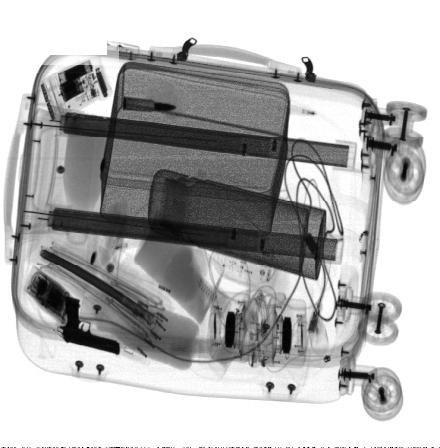Bullet: (123, 96, 177, 111)
Gun: (61, 297, 120, 354)
